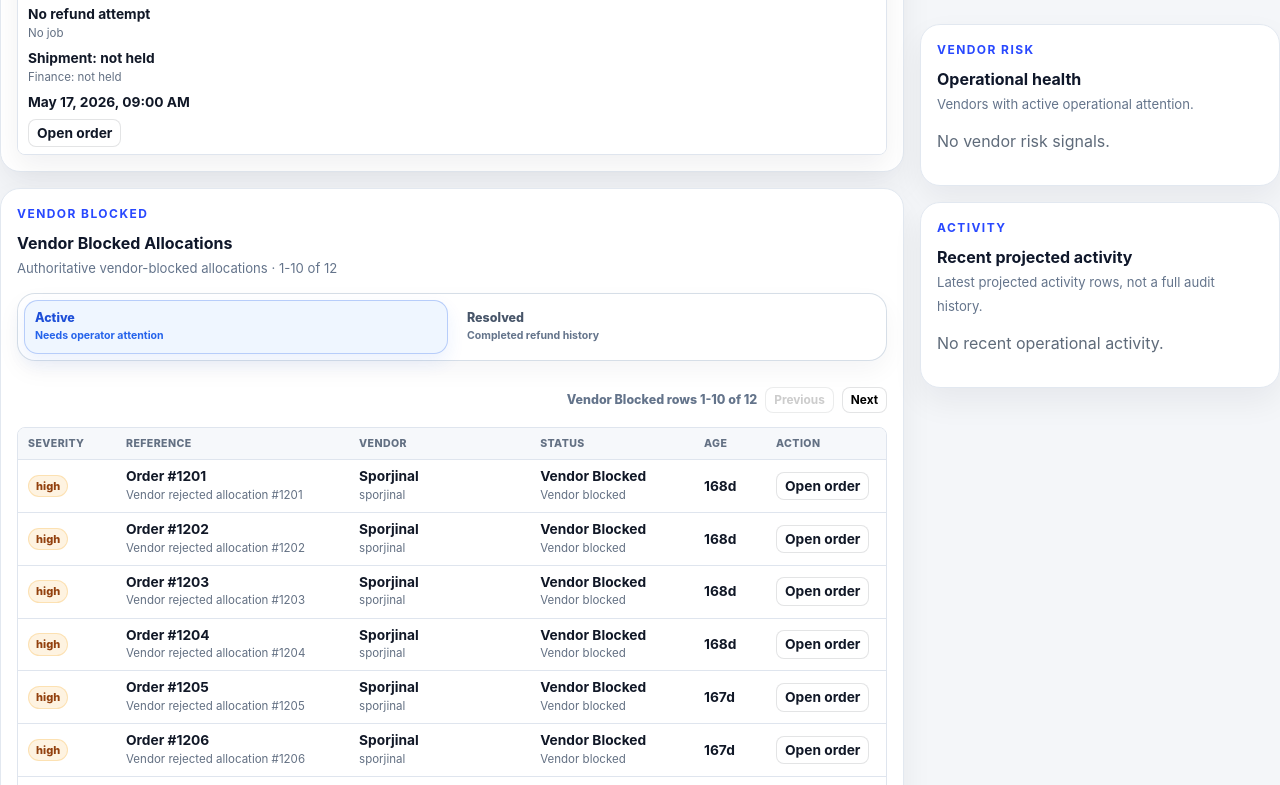
Test case: AdminOperationsQueuePage attention center › pages Vendor Blocked independently so a #1109-like active allocation remains discoverable outside the first table page
This screenshot has width=1280, height=785.
(page scrolled)
Check: the text "Vendor Blocked rows 1-10 of 12" is shown, box [567,391,757,410]
Check: the text "Order #1109" is not shown
Click the button "Next" at (864, 400), box [842,387,887,413]
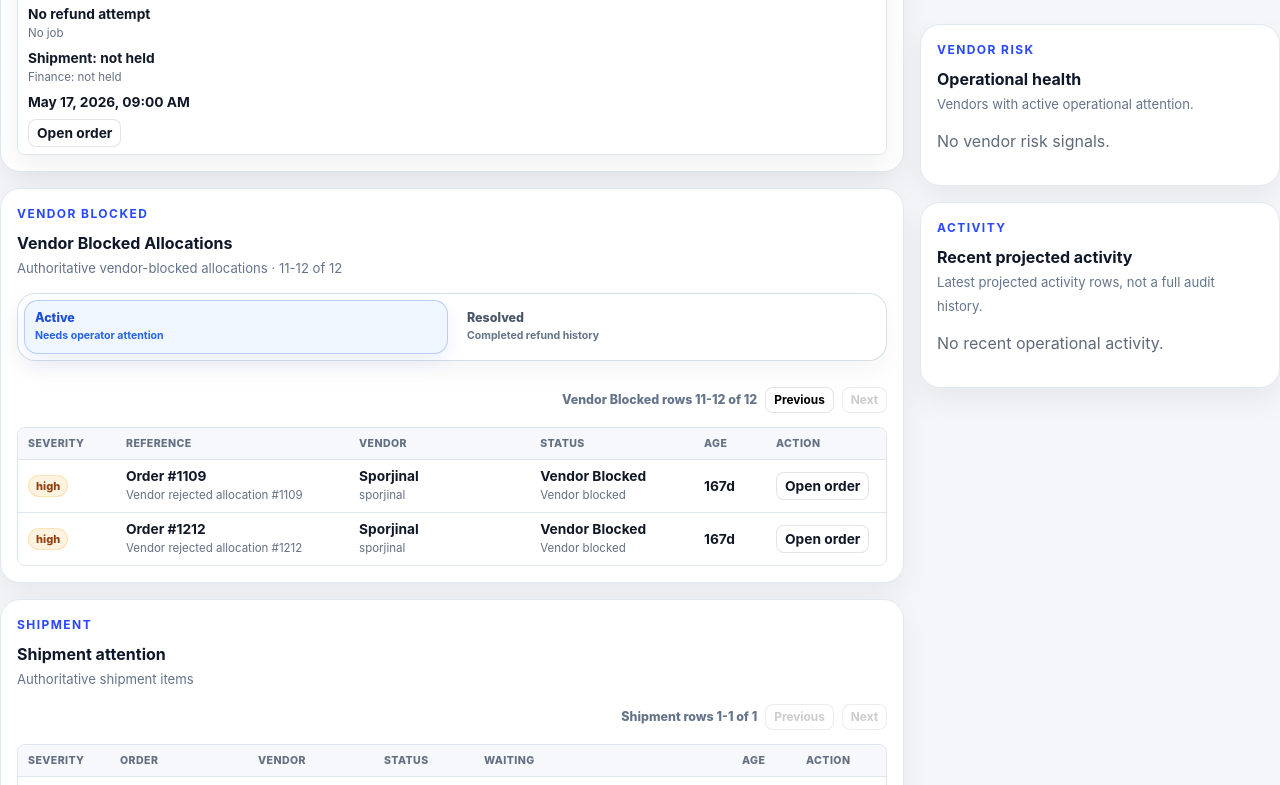
Check: the text "Vendor Blocked rows 1-10 of 12" is shown, box [562,391,757,410]
Check: the text "Order #1109" is shown, box [126,468,207,484]
